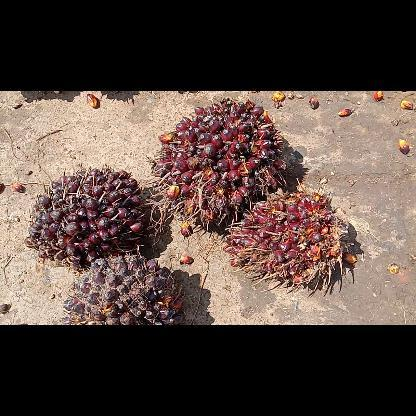Kurang masak: (145, 99, 285, 235), (223, 182, 355, 289), (27, 166, 151, 268), (63, 254, 183, 324)
